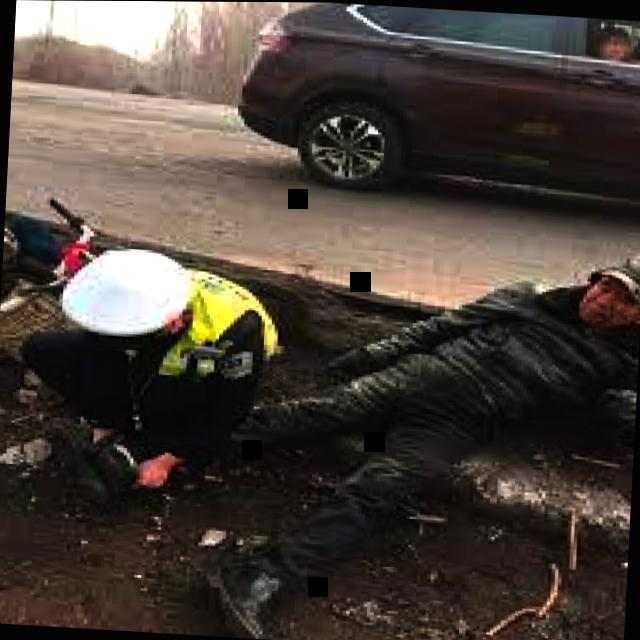Fall-Detected: (49, 214, 640, 640)
